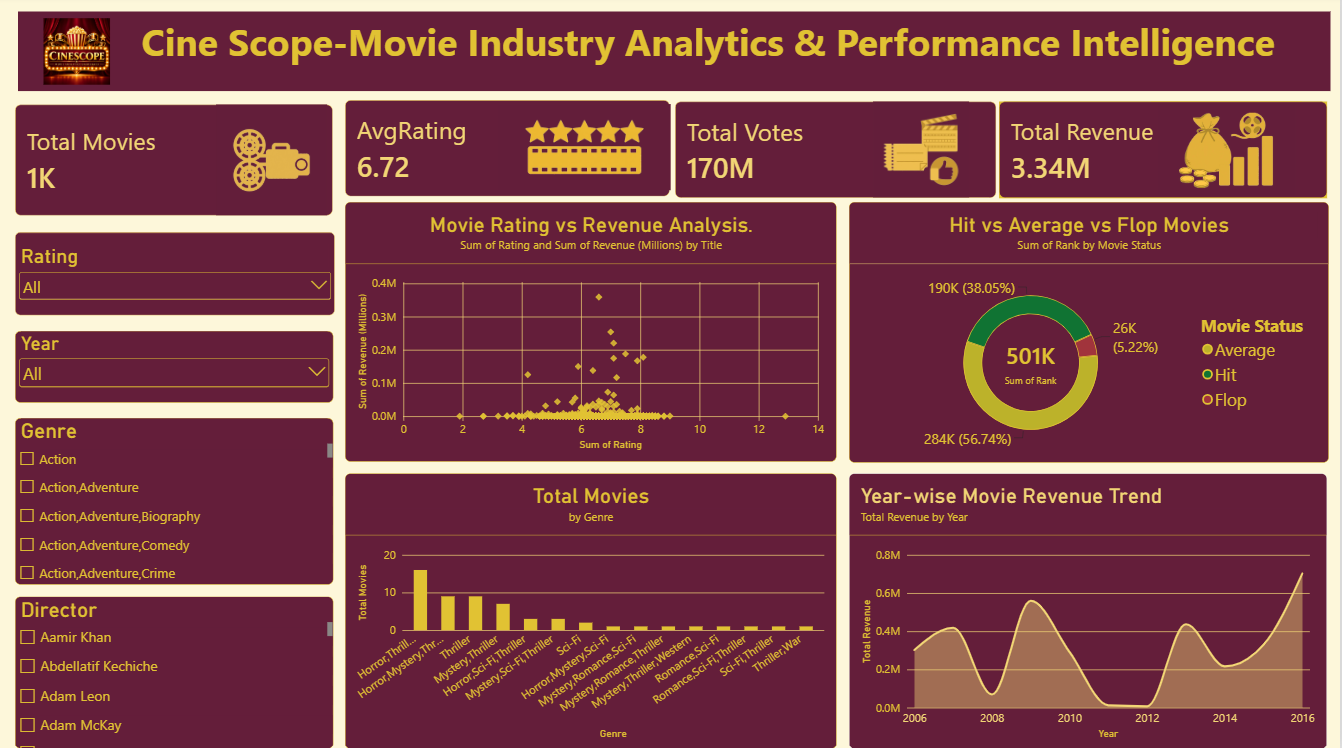

This screenshot's page, from the dashboard's own definition file:
{"tool":"powerbi","page":{"name":"Executive Overview(page1)","canvas":[1920,1080],"ordinal":0},"visuals":[{"type":"lineChart","title":"Year-wise Movie Revenue Trend","fields":{"Category":["FactMovie.Year"],"Y":["FactMovie.Total Revenue"]},"box":[1216.8,684.8,684.8,396.1],"z":0},{"type":"cardVisual","fields":{"Data":["FactMovie.Total Movies"]},"box":[21.5,157.5,455.7,159.9],"z":1000},{"type":"cardVisual","fields":{"Data":["FactMovie.AvgRating"]},"box":[493.9,150.3,465.3,138.4],"z":2000},{"type":"cardVisual","fields":{"Data":["FactMovie.Total Votes"]},"box":[966.3,152.7,460.5,138.4],"z":3000},{"type":"slicer","fields":{"Values":["FactMovie.Year"]},"box":[21.5,482,455.7,102.6],"z":3001},{"type":"slicer","fields":{"Values":["FactMovie.Genre"]},"box":[21.5,606,455.7,238.6],"z":3002},{"type":"slicer","fields":{"Values":["FactMovie.Director"]},"box":[21.5,861.3,455.7,219.5],"z":3003},{"type":"slicer","fields":{"Values":["FactMovie.Rating"]},"box":[21.5,338.8,458.1,119.3],"z":3004},{"type":"cardVisual","fields":{"Data":["FactMovie.Total Revenue"]},"box":[1431.5,152.7,470,138.4],"z":3005},{"type":"textbox","box":[25.8,23.6,1880,113.9],"z":3006},{"type":"clusteredColumnChart","fields":{"Category":["FactMovie.Genre"],"Y":["FactMovie.Total Movies"]},"box":[493.9,684.8,703.8,396.1],"z":3007},{"type":"donutChart","title":"Hit vs Average vs Flop Movies","fields":{"Category":["FactMovie.Movie Status"],"Y":["Sum(FactMovie.Rank)"]},"box":[1216.8,295.9,687,373],"z":3010},{"type":"scatterChart","title":"Movie Rating vs Revenue Analysis.","fields":{"Category":["FactMovie.Title"],"X":["Sum(FactMovie.Rating)"],"Y":["Sum(FactMovie.Revenue (Millions))"]},"box":[493.9,295.9,703.8,372.2],"z":3011},{"type":"image","box":[62.3,17.2,95.4,127.2],"z":3013},{"type":"image","box":[206.3,156.8,365.3,159],"z":3019},{"type":"image","box":[713.3,148.3,247.1,139.7],"z":3020},{"type":"image","box":[1100.1,152.5,438.3,137.5],"z":3021},{"type":"image","box":[1650.1,156.8,214.9,131.1],"z":3022}]}

Visuals, with their boxes in screenshot pixels (x1, y1, x2, y2), scaled from the page's 1920x1080 canvas onto the 1342x748 screenshot:
"Year-wise Movie Revenue Trend" lineChart: locate(850, 474, 1329, 747)
cardVisual - FactMovie.Total Movies: locate(15, 109, 334, 220)
cardVisual - FactMovie.AvgRating: locate(345, 104, 670, 200)
cardVisual - FactMovie.Total Votes: locate(675, 106, 997, 202)
slicer - FactMovie.Year: locate(15, 334, 334, 405)
slicer - FactMovie.Genre: locate(15, 420, 334, 585)
slicer - FactMovie.Director: locate(15, 597, 334, 747)
slicer - FactMovie.Rating: locate(15, 235, 335, 317)
cardVisual - FactMovie.Total Revenue: locate(1001, 106, 1329, 202)
textbox: locate(18, 16, 1332, 95)
clusteredColumnChart - FactMovie.Genre x FactMovie.Total Movies: locate(345, 474, 837, 747)
"Hit vs Average vs Flop Movies" donutChart: locate(850, 205, 1331, 463)
"Movie Rating vs Revenue Analysis." scatterChart: locate(345, 205, 837, 463)
image: locate(44, 12, 110, 100)
image: locate(144, 109, 400, 219)
image: locate(499, 103, 671, 199)
image: locate(769, 106, 1075, 201)
image: locate(1153, 109, 1304, 199)
